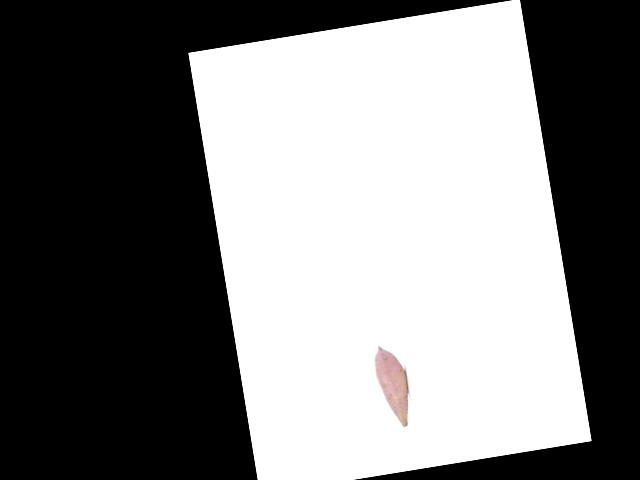sweet_potato: (371, 342, 412, 429)
